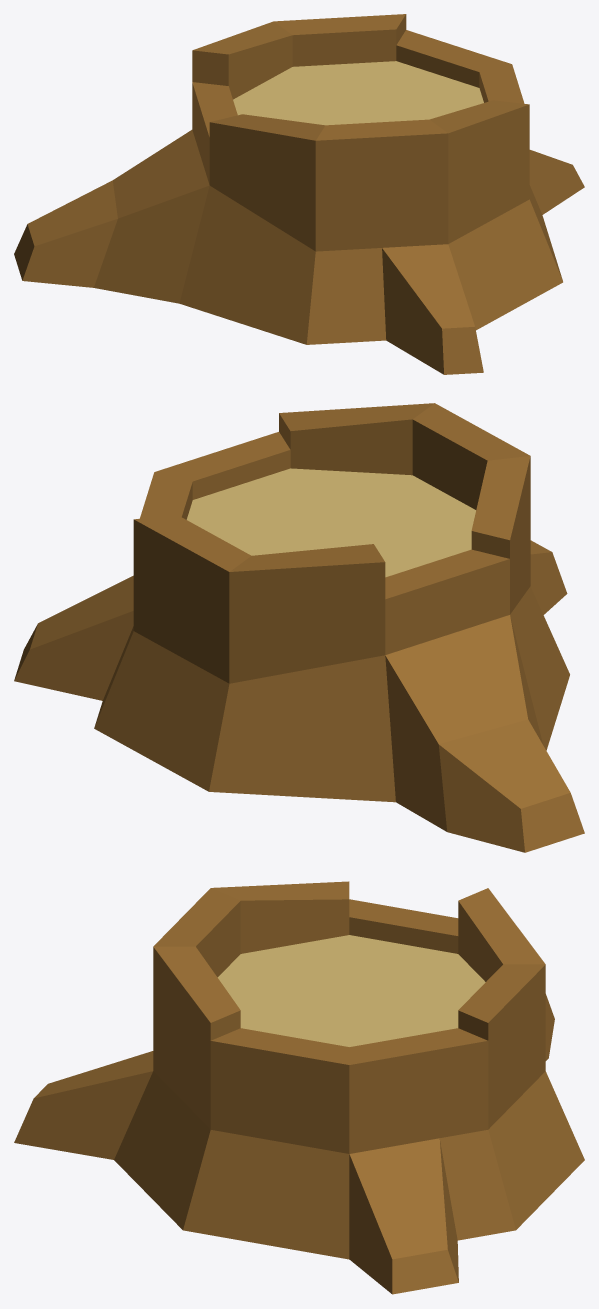
Rendered from Tree Trunk.fbx.
The picture shows the model from 3 angles, top to bottom: view 1: azimuth 30°, elevation 25°; view 2: azimuth 150°, elevation 25°; view 3: azimuth 270°, elevation 25°; orthographic projection. The views are drawn at different scales.
Visible parts, largest first — view 1: Cylinder.017; view 2: Cylinder.017; view 3: Cylinder.017.
Boxes of the visible parts, box(x1,y1,x2,y2) form: Cylinder.017: box(14, 14, 584, 374); Cylinder.017: box(14, 403, 584, 852); Cylinder.017: box(14, 881, 584, 1294).
Bounding box in the file's own units: 344 × 121 × 291.
